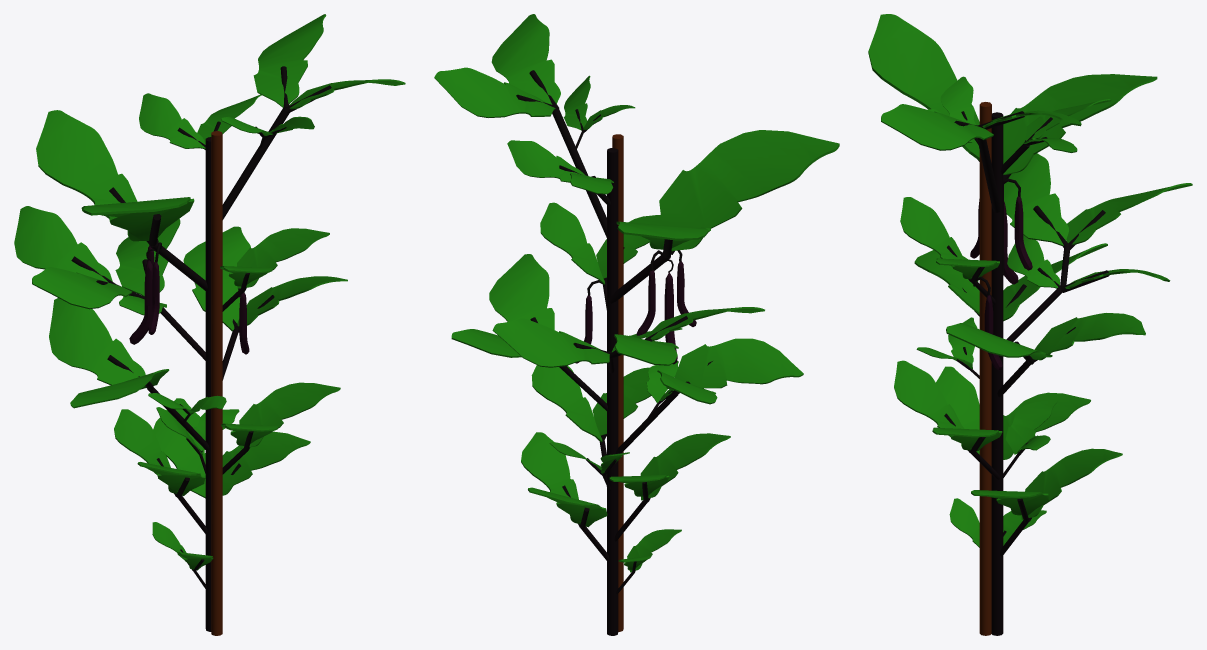
Rendered from 茄子成熟.FBX.
3 views of the same model, side by side, from view 1: azimuth 30°, elevation 25°; view 2: azimuth 150°, elevation 25°; view 3: azimuth 270°, elevation 25° (orthographic). The views are drawn at different scales.
Parts seen in each view (by area): view 1: Cylinder007, Line007, Line019, Line023, Cylinder001, Line026, Line006, Line012, Line010, Line024, Line014, Line017 (+16 smaller); view 2: Line006, Cylinder001, Line018, Line027, Line026, Line009, Line011, Cylinder007, Line012, Line017, Line014, Line020 (+16 smaller); view 3: Line006, Cylinder001, Cylinder007, Line007, Line024, Line027, Line010, Line013, Line015, Line016, Line023, Line020 (+20 smaller).
Boxes of the visible parts, x1,y1,x2,y2 form: Cylinder007: [211, 131, 222, 635]; Line007: [36, 110, 149, 238]; Line019: [49, 298, 145, 385]; Line023: [14, 206, 112, 282]; Cylinder001: [205, 137, 211, 631]; Line026: [253, 14, 326, 107]; Line006: [81, 197, 194, 241]; Line012: [239, 382, 340, 448]; Line010: [183, 226, 250, 330]; Line024: [32, 267, 132, 309]; Line014: [222, 431, 310, 495]; Line017: [237, 228, 329, 288]; Line006: [659, 130, 839, 251]; Cylinder001: [607, 148, 618, 635]; Line018: [674, 338, 803, 388]; Line027: [491, 14, 560, 104]; Line026: [434, 67, 555, 117]; Line009: [492, 318, 609, 367]; Line011: [489, 254, 554, 329]; Cylinder007: [612, 134, 623, 631]; Line012: [531, 365, 602, 442]; Line017: [540, 202, 604, 284]; Line014: [521, 432, 581, 522]; Line020: [640, 433, 730, 500]; Line006: [868, 14, 979, 160]; Cylinder001: [991, 112, 1003, 635]; Cylinder007: [979, 102, 991, 635]; Line007: [1003, 74, 1157, 174]; Line024: [1004, 153, 1068, 246]; Line027: [881, 104, 993, 150]; Line010: [1034, 313, 1145, 360]; Line013: [894, 360, 971, 449]; Line015: [1021, 448, 1122, 519]; Line016: [900, 197, 971, 278]; Line023: [1066, 183, 1192, 245]; Line020: [936, 366, 979, 454].
Bounding box in the file's own units: 35.28 × 57.68 × 28.74.
